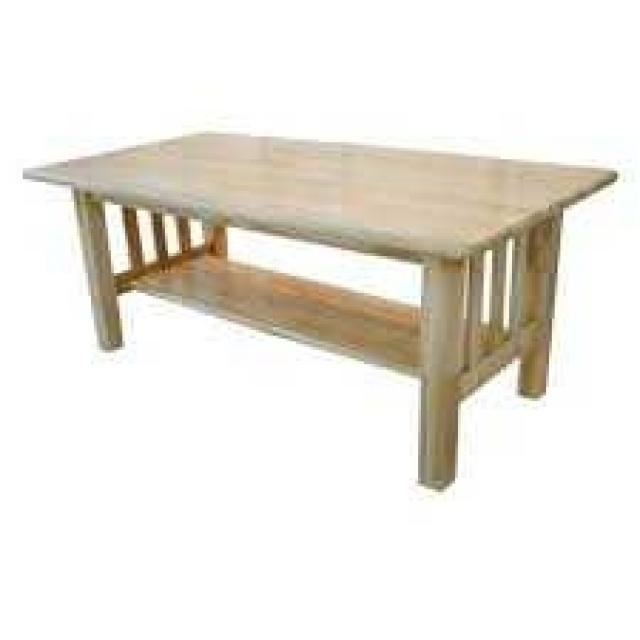table: (23, 102, 623, 498)
